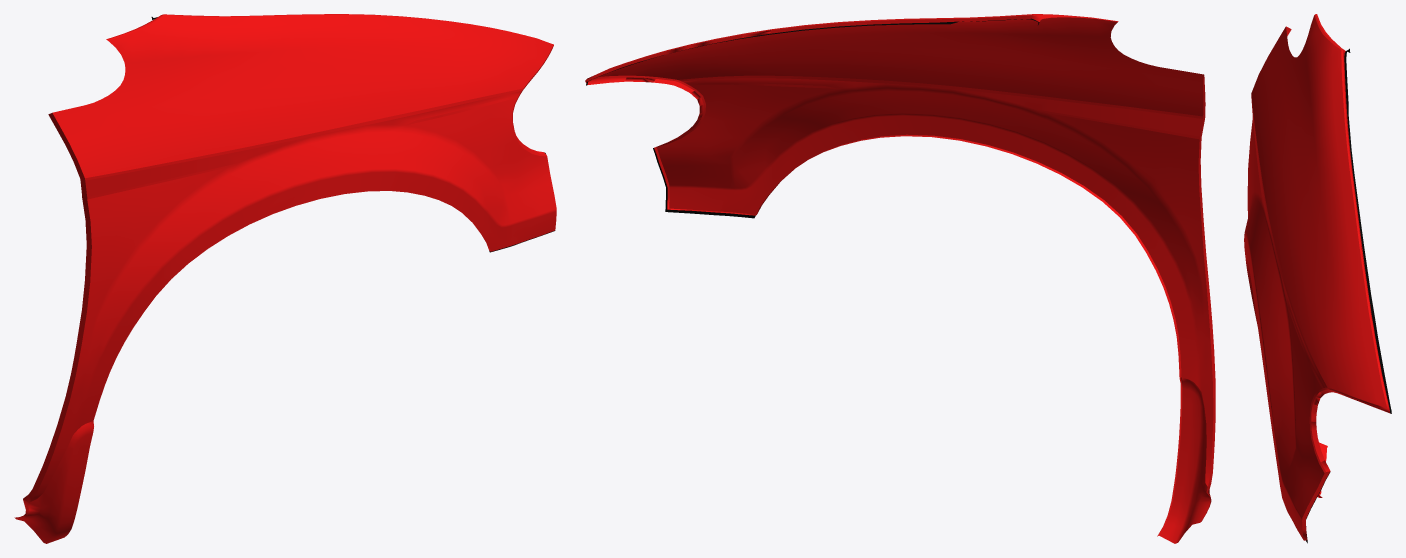
3 views of the same model, side by side, from view 1: azimuth 30°, elevation 25°; view 2: azimuth 150°, elevation 25°; view 3: azimuth 270°, elevation 25° (orthographic). The views are drawn at different scales.
Parts seen in each view (by area): view 1: N664_9A_141B_R_1_DaS_N664_9A_141B_R, N664_9A_141B_R_1_DaS_N664_9A_141B_R_E; view 2: N664_9A_141B_R_1_DaS_N664_9A_141B_R, N664_9A_141B_R_1_DaS_N664_9A_141B_R_E, N664_9A_141B_R_N664_9A_141B_R_2_D; view 3: N664_9A_141B_R_1_DaS_N664_9A_141B_R, N664_9A_141B_R_1_DaS_N664_9A_141B_R_E, N664_9A_141B_R_N664_9A_141B_R_2_D.
Boxes of the visible parts, <box> form: N664_9A_141B_R_1_DaS_N664_9A_141B_R: <box>14,14,556,519</box>; N664_9A_141B_R_1_DaS_N664_9A_141B_R_E: <box>17,14,553,543</box>; N664_9A_141B_R_1_DaS_N664_9A_141B_R: <box>585,15,1213,536</box>; N664_9A_141B_R_1_DaS_N664_9A_141B_R_E: <box>586,14,1215,543</box>; N664_9A_141B_R_N664_9A_141B_R_2_D: <box>586,18,1039,218</box>; N664_9A_141B_R_1_DaS_N664_9A_141B_R: <box>1244,14,1390,539</box>; N664_9A_141B_R_1_DaS_N664_9A_141B_R_E: <box>1245,14,1389,540</box>; N664_9A_141B_R_N664_9A_141B_R_2_D: <box>1306,48,1391,543</box>.
Bounding box in the file's own units: 106 × 87.26 × 23.03.
